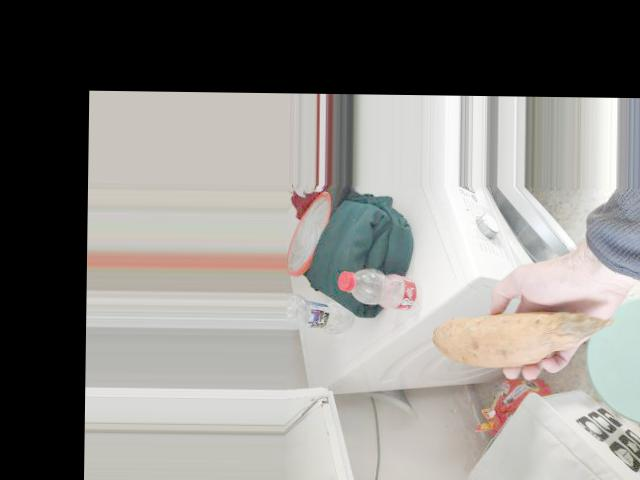sweet_potato: (449, 311, 600, 371)
